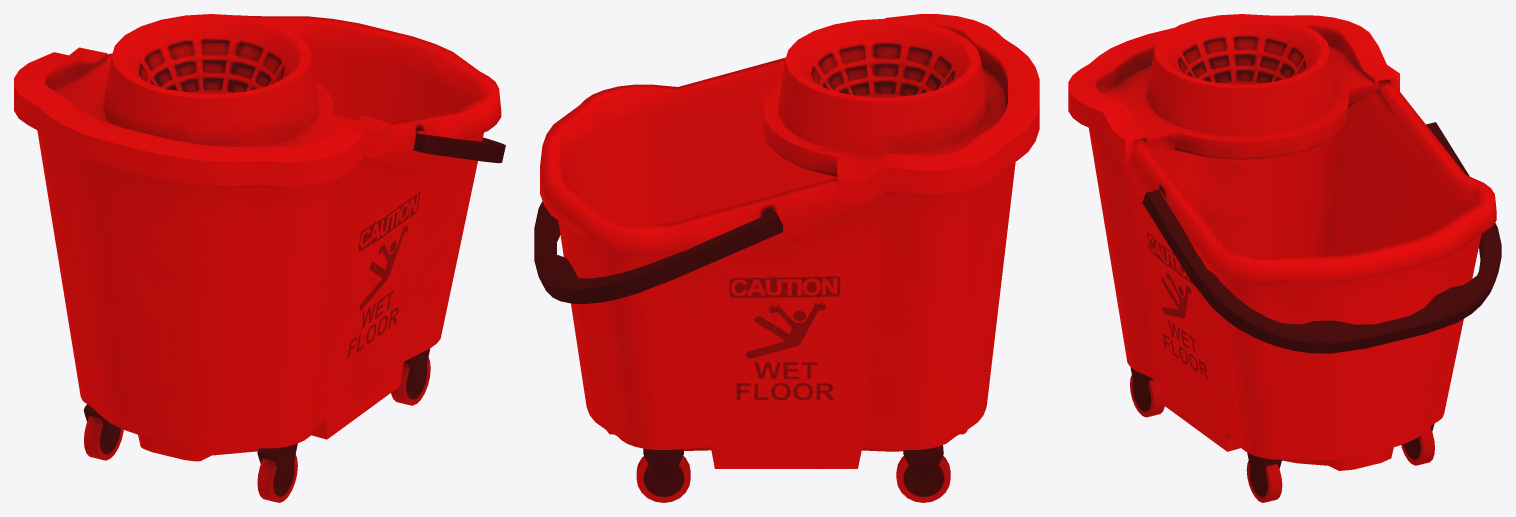
The model's file is mop_bucket.glb.
3 views of the same model, side by side, from view 1: azimuth 30°, elevation 25°; view 2: azimuth 150°, elevation 25°; view 3: azimuth 270°, elevation 25° (orthographic). The views are drawn at different scales.
Parts seen in each view (by area): view 1: SM_MopBucket_LOD0_M_MopBucket_0; view 2: SM_MopBucket_LOD0_M_MopBucket_0; view 3: SM_MopBucket_LOD0_M_MopBucket_0.
Boxes of the visible parts, bbox=[...] form: SM_MopBucket_LOD0_M_MopBucket_0: bbox=[14, 14, 505, 502]; SM_MopBucket_LOD0_M_MopBucket_0: bbox=[534, 14, 1039, 502]; SM_MopBucket_LOD0_M_MopBucket_0: bbox=[1068, 14, 1501, 502].
Size of the model in its own units: 0.8063 by 0.6869 by 0.7538.
Materials: 1 (1 with a texture image).
